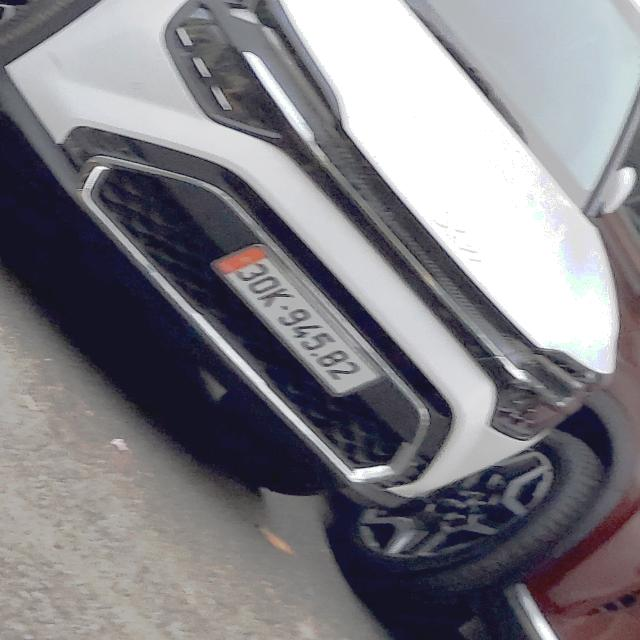license_plate: (215, 245, 390, 401)
